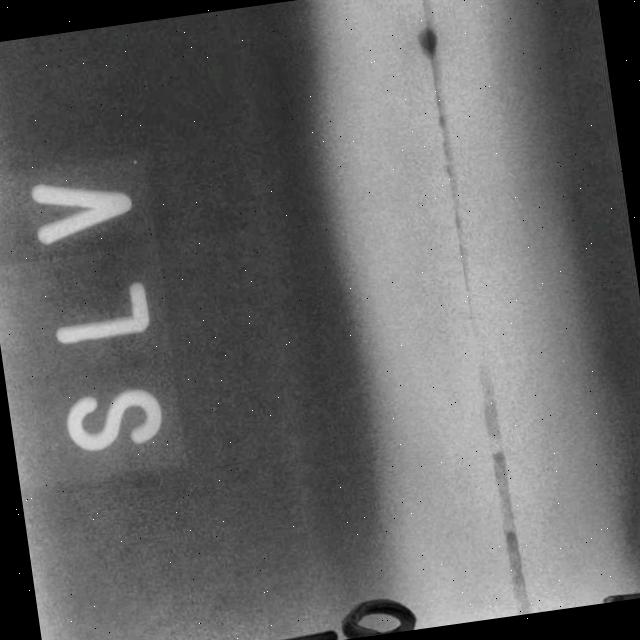LoP-LoF: (369, 0, 553, 622)
Pore: (409, 25, 448, 58)
